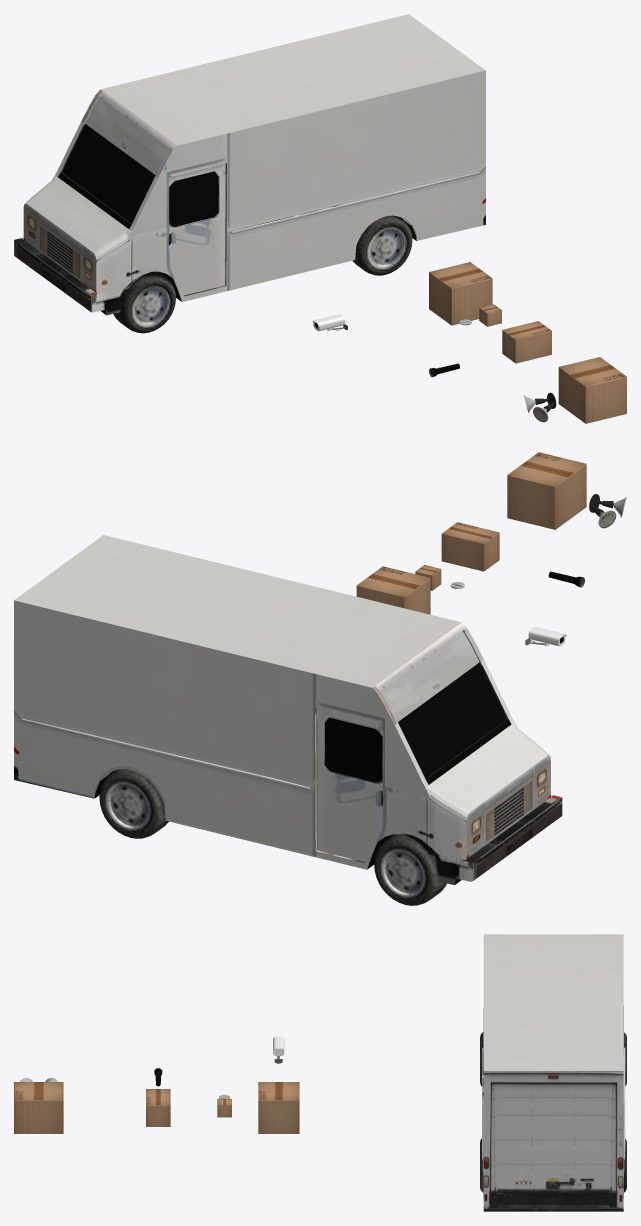
Rendered from movingtruck.glb.
The picture shows the model from 3 angles, top to bottom: view 1: azimuth 30°, elevation 25°; view 2: azimuth 150°, elevation 25°; view 3: azimuth 270°, elevation 25°; orthographic projection. The views are drawn at different scales.
Visible parts, largest first — view 1: Truck, FrontRightTire.001, BackLeftTire, FogLightBox, CameraBox, FlashLightBox, TopLid1.003, TopLid2.003; view 2: Truck, FrontRightTire, BackRightTire, FogLightBox, FlashLightBox, CameraBox, TopLid2.003, TopLid1.003, FogLight, TopLid2, TopLid1; view 3: Truck, FogLightBox, CameraBox, FlashLightBox, TopLid1.003, TopLid2.003, TopLid1, TopLid2.
Boxes of the visible parts, <box> form: Truck: <box>14,14,485,315</box>; FrontRightTire.001: <box>113,271,175,333</box>; BackLeftTire: <box>352,215,412,275</box>; FogLightBox: <box>558,367,626,423</box>; CameraBox: <box>429,272,492,325</box>; FlashLightBox: <box>502,330,551,363</box>; TopLid1.003: <box>573,367,626,386</box>; TopLid2.003: <box>559,357,612,376</box>; Truck: <box>14,535,562,885</box>; FrontRightTire: <box>374,834,446,905</box>; BackRightTire: <box>99,769,168,838</box>; FogLightBox: <box>507,456,586,529</box>; FlashLightBox: <box>441,530,499,571</box>; CameraBox: <box>356,568,430,614</box>; TopLid2.003: <box>508,463,570,486</box>; TopLid1.003: <box>523,452,585,474</box>; FogLight: <box>589,494,626,528</box>; TopLid2: <box>357,576,416,596</box>; TopLid1: <box>370,566,429,587</box>; Truck: <box>482,934,625,1211</box>; FogLightBox: <box>14,1082,63,1133</box>; CameraBox: <box>258,1082,299,1133</box>; FlashLightBox: <box>146,1105,170,1126</box>; TopLid1.003: <box>14,1082,38,1100</box>; TopLid2.003: <box>39,1082,63,1100</box>; TopLid1: <box>258,1082,278,1100</box>; TopLid2: <box>279,1082,299,1100</box>.
Bounding box in the file's own units: 4.33 × 1.89 × 6.39.
12 materials, 8 textured.
